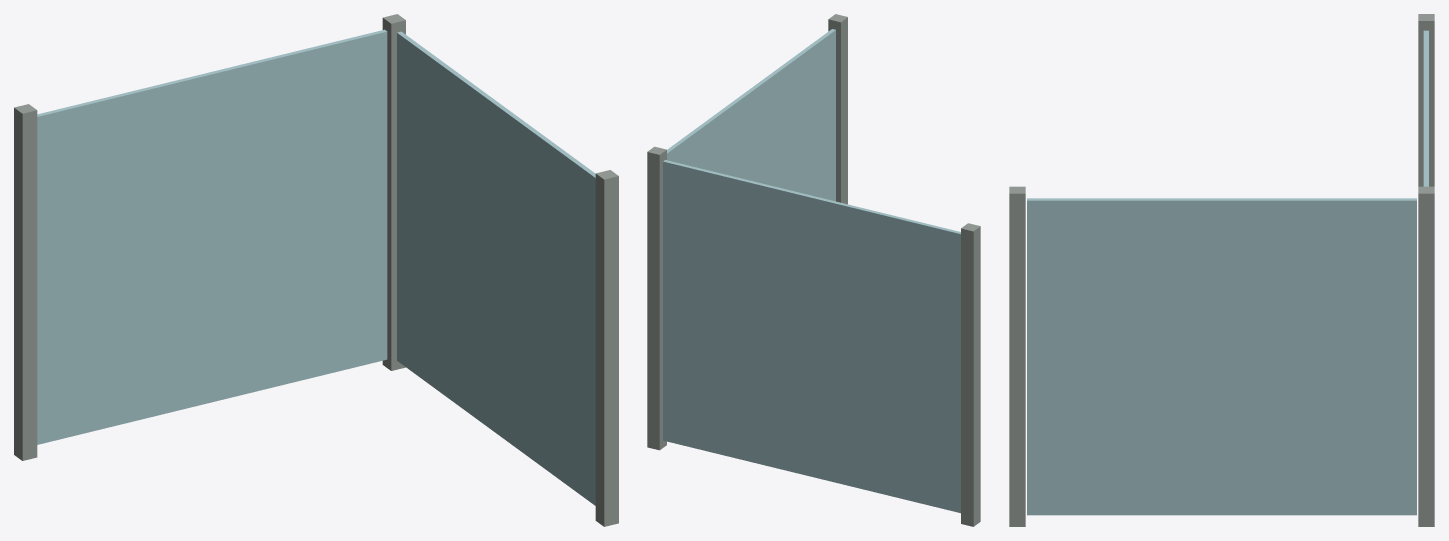
Rendered from zoo-and-safari-park-builder-glass-viewing-corner-aa1de05d__21435.glb.
3 views of the same model, side by side, from view 1: azimuth 30°, elevation 25°; view 2: azimuth 150°, elevation 25°; view 3: azimuth 270°, elevation 25° (orthographic). The views are drawn at different scales.
Visible parts, largest first — view 1: glass-viewing-corner; view 2: glass-viewing-corner; view 3: glass-viewing-corner.
Boxes of the visible parts, x1,y1,x2,y2 form: glass-viewing-corner: [14, 14, 618, 526]; glass-viewing-corner: [647, 14, 980, 526]; glass-viewing-corner: [1009, 14, 1434, 526].
Bounding box in the file's own units: 2.08 × 1.8 × 2.08.
